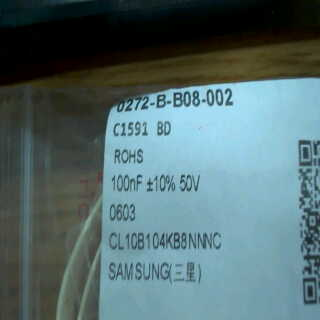100nF: (110, 171, 145, 197)
